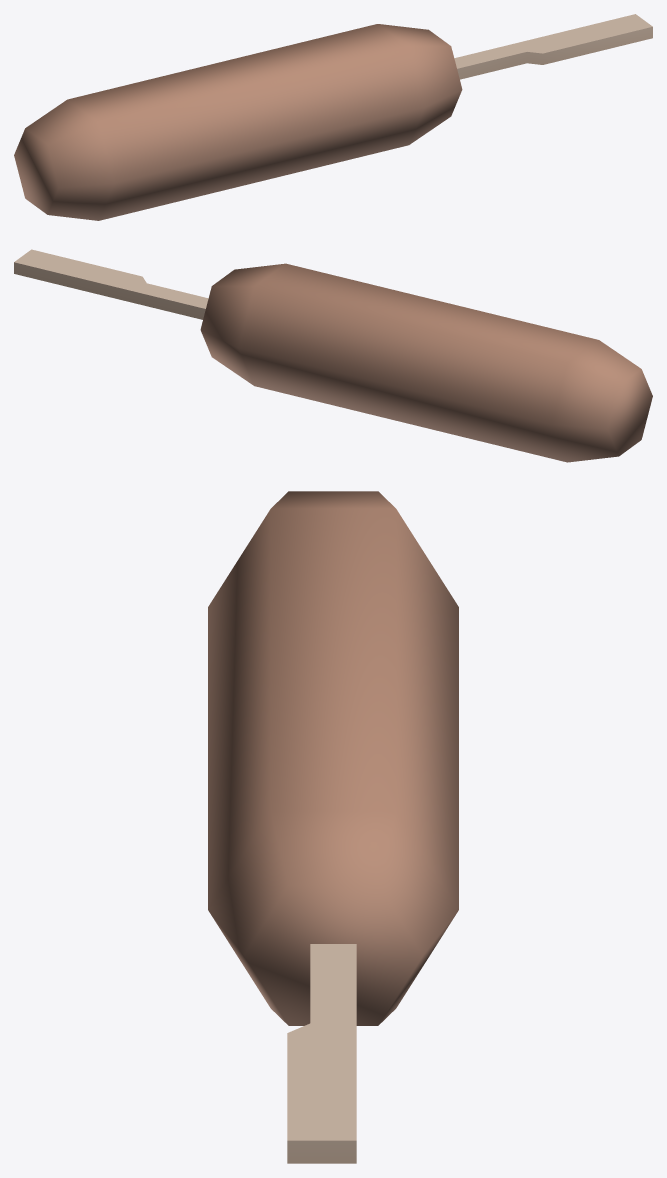
File: corn-dog.glb
The picture shows the model from 3 angles, top to bottom: view 1: azimuth 30°, elevation 25°; view 2: azimuth 150°, elevation 25°; view 3: azimuth 270°, elevation 25°; orthographic projection. The views are drawn at different scales.
Visible parts, largest first — view 1: corn-dog; view 2: corn-dog; view 3: corn-dog.
Part boxes in pixels (left/top/right/bottom): corn-dog: left=14, top=14, right=652, bottom=220; corn-dog: left=14, top=249, right=652, bottom=462; corn-dog: left=208, top=491, right=458, bottom=1163.
Bounding box in the file's own units: 0.6044 × 0.094 × 0.1085.
